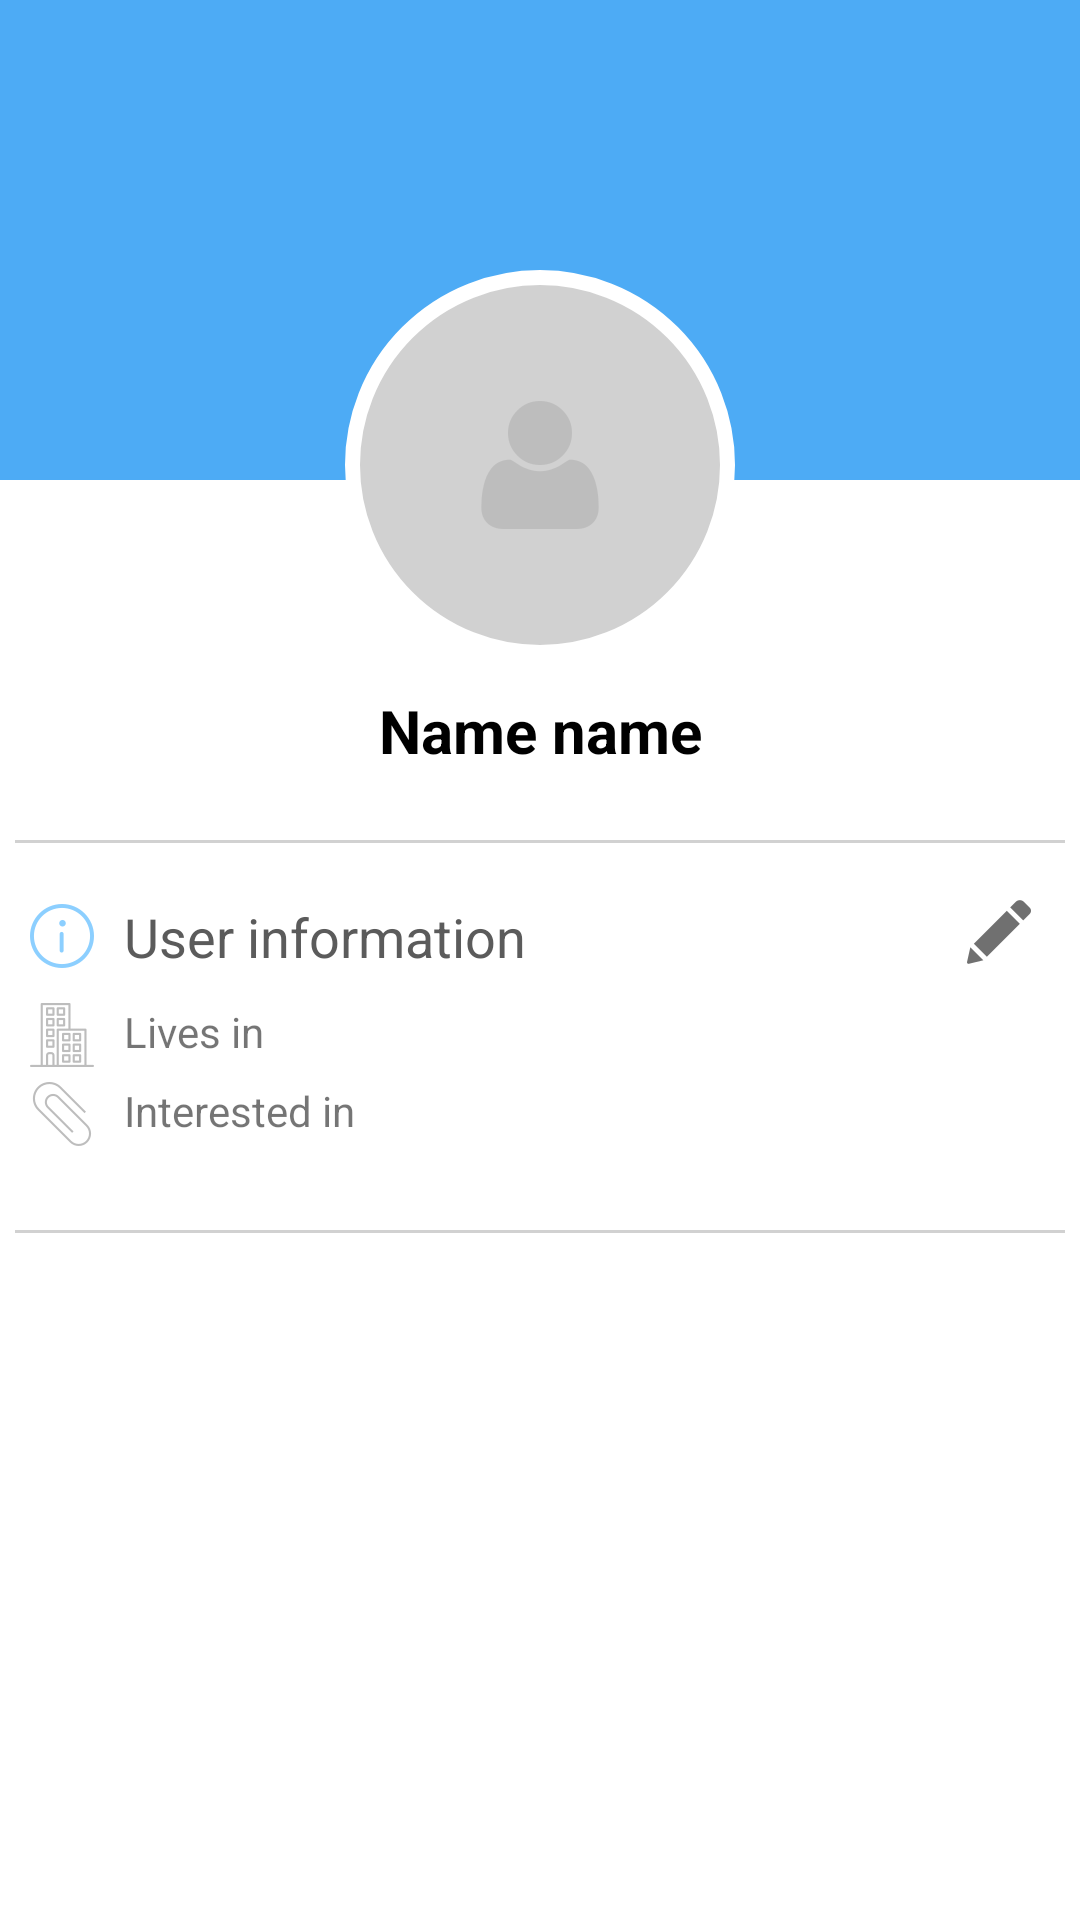

Where to tap for icons on this 1080px x 1920px app screen, as point (x, y):
pencil: point (999, 932)
